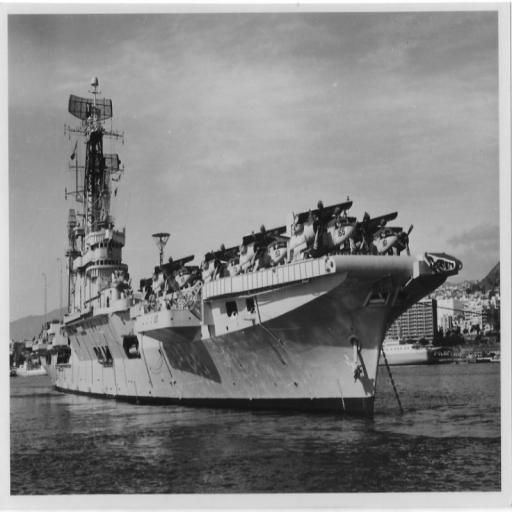Portanaves: (36, 73, 466, 430)
